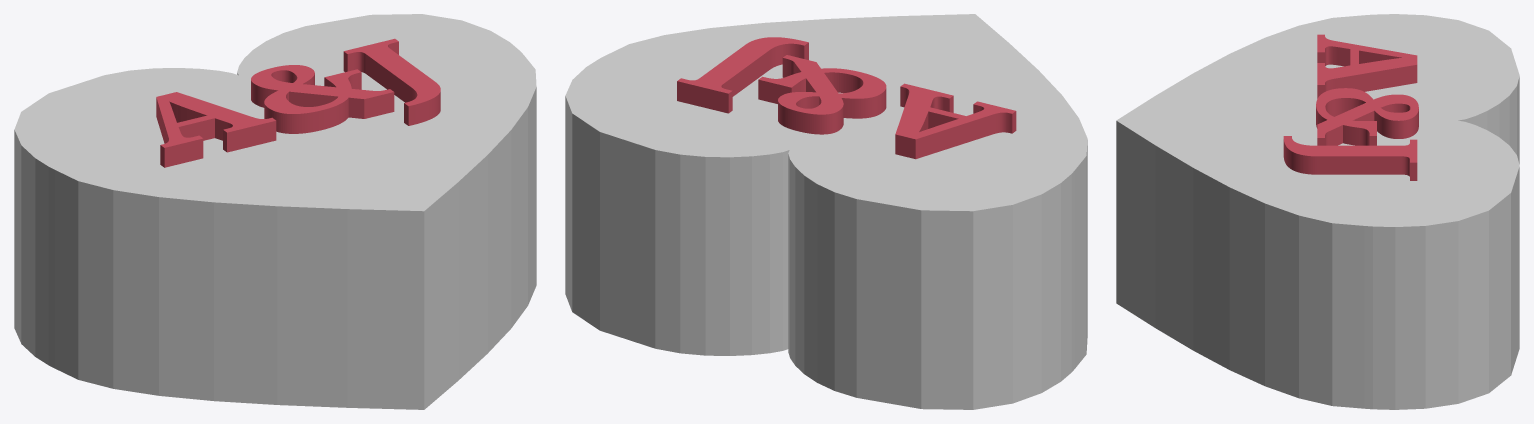
File: asset.glb
The picture shows the model from 3 angles, left to right: view 1: azimuth 30°, elevation 25°; view 2: azimuth 150°, elevation 25°; view 3: azimuth 270°, elevation 25°; orthographic projection. The views are drawn at different scales.
Parts seen in each view (by area): view 1: Mesh_Mesh_head_geo.001_lambert2SG.001; view 2: Mesh_Mesh_head_geo.001_lambert2SG.001; view 3: Mesh_Mesh_head_geo.001_lambert2SG.001.
Boxes of the visible parts, box(x1,y1,x2,y2) form: Mesh_Mesh_head_geo.001_lambert2SG.001: box(14, 14, 536, 409); Mesh_Mesh_head_geo.001_lambert2SG.001: box(565, 14, 1087, 409); Mesh_Mesh_head_geo.001_lambert2SG.001: box(1116, 14, 1519, 409).
Bounding box in the file's own units: 50 × 22 × 40.
